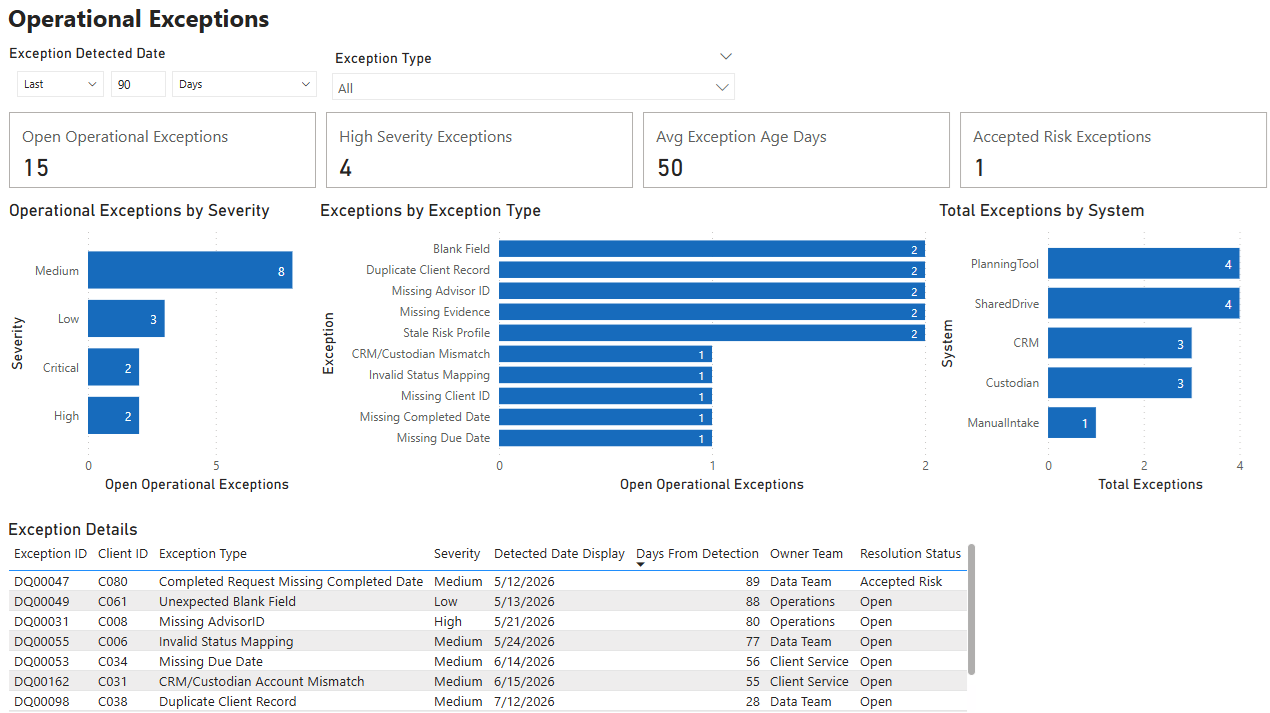

The page's visual inventory and layout, read from the dashboard file:
{"tool":"powerbi","page":{"name":"Operational Exceptions","canvas":[1280,720],"ordinal":3},"visuals":[{"type":"cardVisual","fields":{"Data":["FactDataQualityExceptions.Open Compliance Exceptions","FactDataQualityExceptions.High Severity Exceptions","FactDataQualityExceptions.Avg Exception Age Days","FactDataQualityExceptions.Accepted Risk Exceptions"]},"box":[6,111,1268,86],"z":0},{"type":"barChart","title":"Exceptions by Exception Type","fields":{"Y":["FactDataQualityExceptions.Open Compliance Exceptions"],"Category":["FactDataQualityExceptions.Exception Type Display"]},"box":[317,204,619,297],"z":1000},{"type":"clusteredBarChart","fields":{"Category":["FactDataQualityExceptions.SourceSystem"],"Y":["FactDataQualityExceptions.Total Exceptions"]},"box":[936,204,328,297],"z":2000},{"type":"tableEx","title":"Exception Details","fields":{"Values":["FactDataQualityExceptions.ExceptionID","FactDataQualityExceptions.ClientID","FactDataQualityExceptions.Exception Type","FactDataQualityExceptions.Severity","FactDataQualityExceptions.Detected Date Display","FactDataQualityExceptions.Days From Detection","FactDataQualityExceptions.Owner Team","FactDataQualityExceptions.Resolution Status"]},"box":[5,523,978,198],"z":3000},{"type":"clusteredBarChart","title":"Operational Exceptions by Severity","fields":{"Category":["FactDataQualityExceptions.Severity"],"Y":["FactDataQualityExceptions.Open Compliance Exceptions"]},"box":[6,204,311,297],"z":4000},{"type":"textbox","box":[5,0,931,61],"z":5000},{"type":"slicer","title":"Exception Detected Date","fields":{"Values":["FactDataQualityExceptions.Detected Date"]},"box":[6,49,327,57],"z":6000},{"type":"slicer","fields":{"Values":["FactDataQualityExceptions.Exception Type"]},"box":[324,49,423,57],"z":7000}]}

Visuals, with their boxes in screenshot pixels (x1, y1, x2, y2), scaled from the page's 1280x720 canvas onto the 1270x713 screenshot:
cardVisual - FactDataQualityExceptions.Open Compliance Exceptions x FactDataQualityExceptions.High Severity Exceptions: box=[6, 110, 1264, 195]
"Exceptions by Exception Type" barChart: box=[315, 202, 929, 496]
clusteredBarChart - FactDataQualityExceptions.SourceSystem x FactDataQualityExceptions.Total Exceptions: box=[929, 202, 1254, 496]
"Exception Details" tableEx: box=[5, 518, 975, 712]
"Operational Exceptions by Severity" clusteredBarChart: box=[6, 202, 315, 496]
textbox: box=[5, 0, 929, 60]
"Exception Detected Date" slicer: box=[6, 49, 330, 105]
slicer - FactDataQualityExceptions.Exception Type: box=[321, 49, 741, 105]
